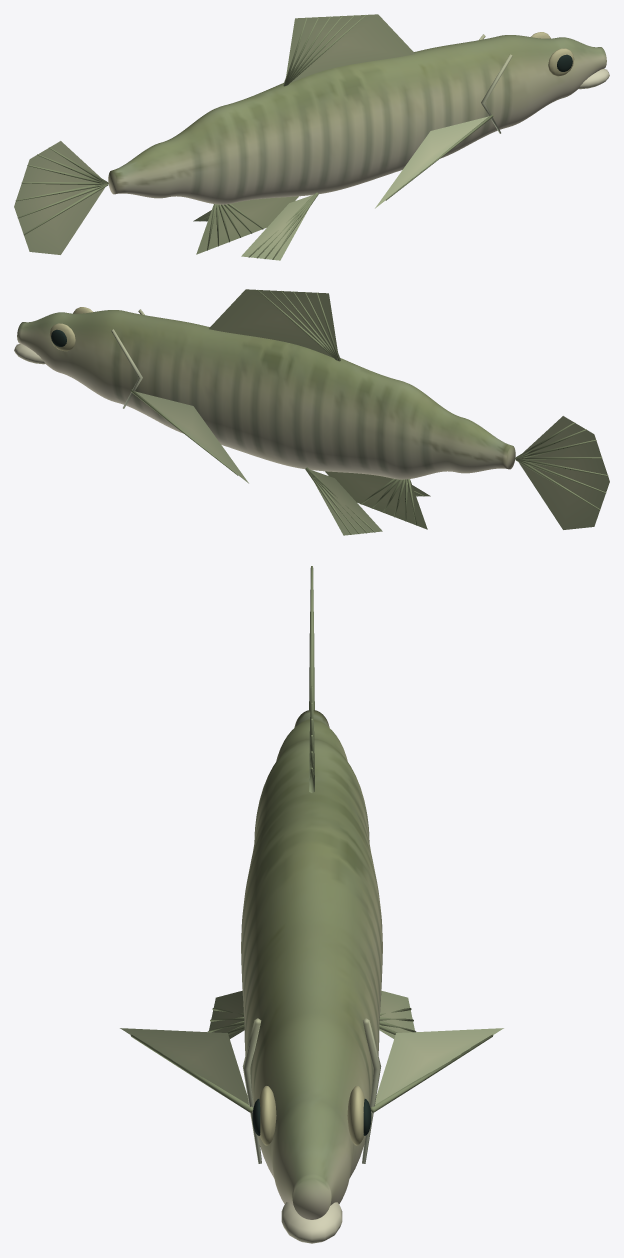
File: banded_killifish_hybrid.glb
3 renders of one model, top to bottom at view 1: azimuth 30°, elevation 25°; view 2: azimuth 150°, elevation 25°; view 3: azimuth 270°, elevation 25°, orthographic. The views are drawn at different scales.
Parts seen in each view (by area): view 1: ContinuousBody, RoundedCaudalFin, DorsalFin, AnalFin, PectoralFinL, PelvicFinL, IrisL, LowerJaw; view 2: ContinuousBody, RoundedCaudalFin, DorsalFin, AnalFin, PectoralFinR, PelvicFinR, IrisR, LowerJaw; view 3: ContinuousBody, PectoralFinL, PectoralFinR, LowerJaw, PelvicFinL, PelvicFinR.
Part boxes in pixels (x1,y1,x2,y2): ContinuousBody: [108, 35, 606, 204]; RoundedCaudalFin: [14, 141, 104, 254]; DorsalFin: [285, 14, 414, 82]; AnalFin: [196, 196, 298, 254]; PectoralFinL: [375, 116, 488, 208]; PelvicFinL: [241, 194, 313, 260]; IrisL: [548, 48, 574, 76]; LowerJaw: [578, 69, 609, 89]; ContinuousBody: [17, 310, 515, 479]; RoundedCaudalFin: [519, 416, 609, 529]; DorsalFin: [209, 289, 338, 357]; AnalFin: [325, 471, 427, 529]; PectoralFinR: [135, 391, 248, 483]; PelvicFinR: [310, 469, 382, 535]; IrisR: [49, 323, 75, 351]; LowerJaw: [14, 344, 45, 364]; ContinuousBody: [241, 710, 382, 1219]; PectoralFinL: [120, 1028, 248, 1104]; PectoralFinR: [375, 1028, 503, 1104]; LowerJaw: [281, 1202, 342, 1243]; PelvicFinL: [209, 990, 244, 1038]; PelvicFinR: [379, 990, 414, 1038].
Bounding box in the file's own units: 0.1143 × 0.039 × 0.032.
